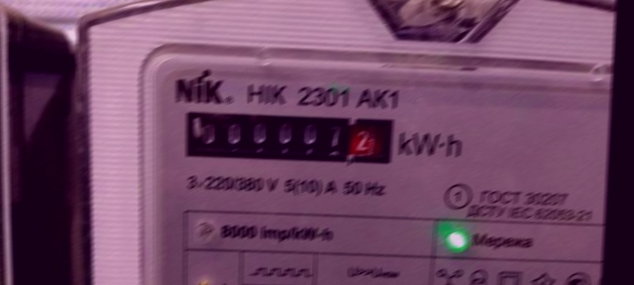0: (199, 121, 215, 146), (276, 122, 292, 146), (301, 122, 316, 146), (225, 122, 240, 145), (251, 122, 266, 145)
2: (354, 129, 368, 153)
7: (327, 124, 341, 148)
screen: (172, 99, 402, 176)
